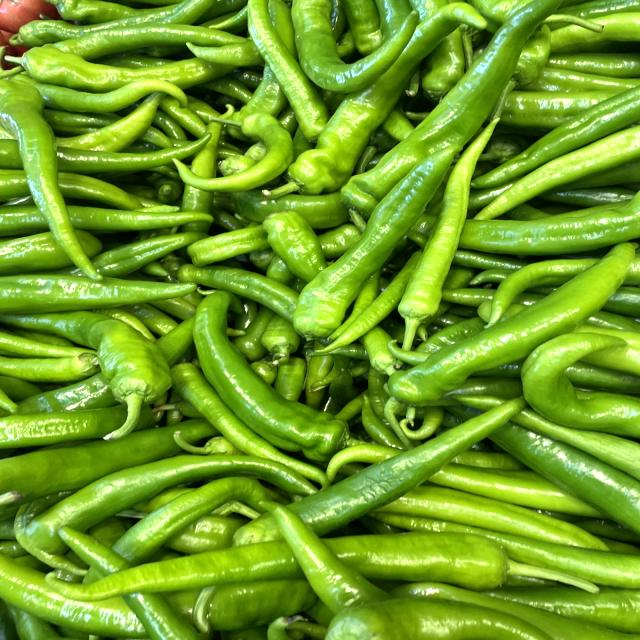green pepper: (44, 527, 605, 609), (289, 137, 467, 358)
